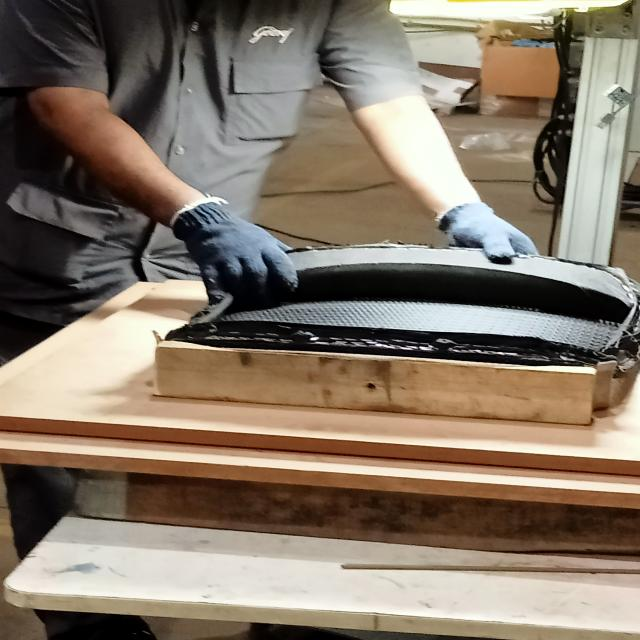Gloves-Detection: (146, 195, 306, 315), (446, 202, 532, 262)
